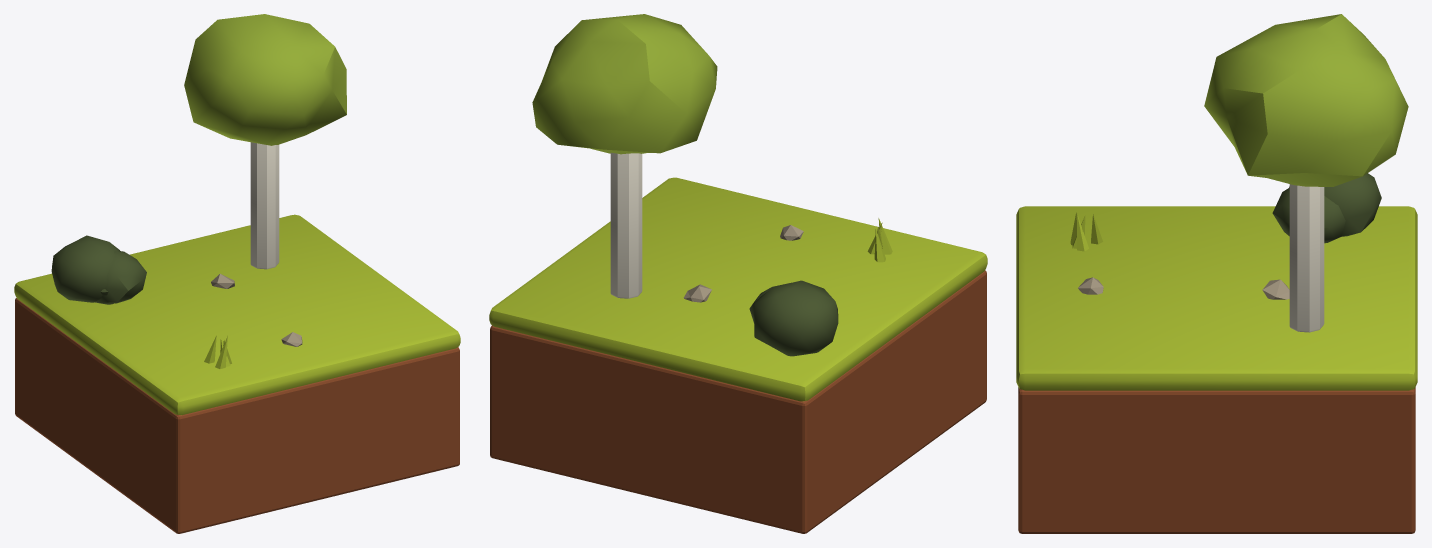
The model's file is tile_grove_birch.glb.
The picture shows the model from 3 angles, left to right: view 1: azimuth 30°, elevation 25°; view 2: azimuth 150°, elevation 25°; view 3: azimuth 270°, elevation 25°; orthographic projection. The views are drawn at different scales.
Visible parts, largest first — view 1: tile_grove_birch_body, tile_grove_birch_cap, gb_leaf, gb_trunk, tile_grove_birch_b_lobe1, tile_grove_birch_b_lobe0; view 2: tile_grove_birch_body, tile_grove_birch_cap, gb_leaf, tile_grove_birch_b_lobe1, gb_trunk; view 3: tile_grove_birch_cap, tile_grove_birch_body, gb_leaf, gb_trunk, tile_grove_birch_b_lobe1, tile_grove_birch_b_lobe0.
Boxes of the visible parts, box(x1,y1,x2,y2) form: tile_grove_birch_body: box(15, 298, 459, 533); tile_grove_birch_cap: box(14, 214, 460, 415); gb_leaf: box(184, 14, 346, 145); gb_trunk: box(250, 142, 279, 269); tile_grove_birch_b_lobe1: box(51, 235, 119, 302); tile_grove_birch_b_lobe0: box(97, 251, 146, 303); tile_grove_birch_body: box(490, 270, 986, 533); tile_grove_birch_cap: box(489, 177, 987, 401); gb_leaf: box(532, 14, 717, 154); tile_grove_birch_b_lobe1: box(754, 280, 838, 356); gb_trunk: box(610, 152, 642, 298); tile_grove_birch_cap: box(1016, 206, 1417, 390); tile_grove_birch_body: box(1018, 387, 1415, 533); gb_leaf: box(1204, 14, 1408, 186); gb_trunk: box(1289, 184, 1324, 332); tile_grove_birch_b_lobe1: box(1289, 173, 1381, 236); tile_grove_birch_b_lobe0: box(1272, 187, 1345, 243).
Bounding box in the file's own units: 2.02 × 2.57 × 2.02.
